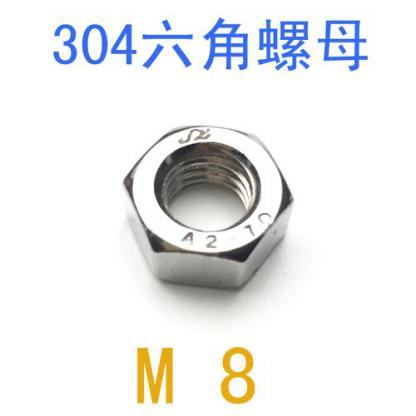FOD: (118, 119, 295, 290)
